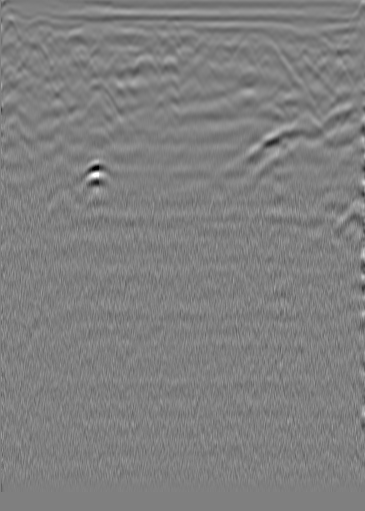가스: (71, 159, 116, 199)
상수: (326, 37, 346, 57)
오수: (31, 32, 51, 52)
우수: (176, 26, 196, 46)
